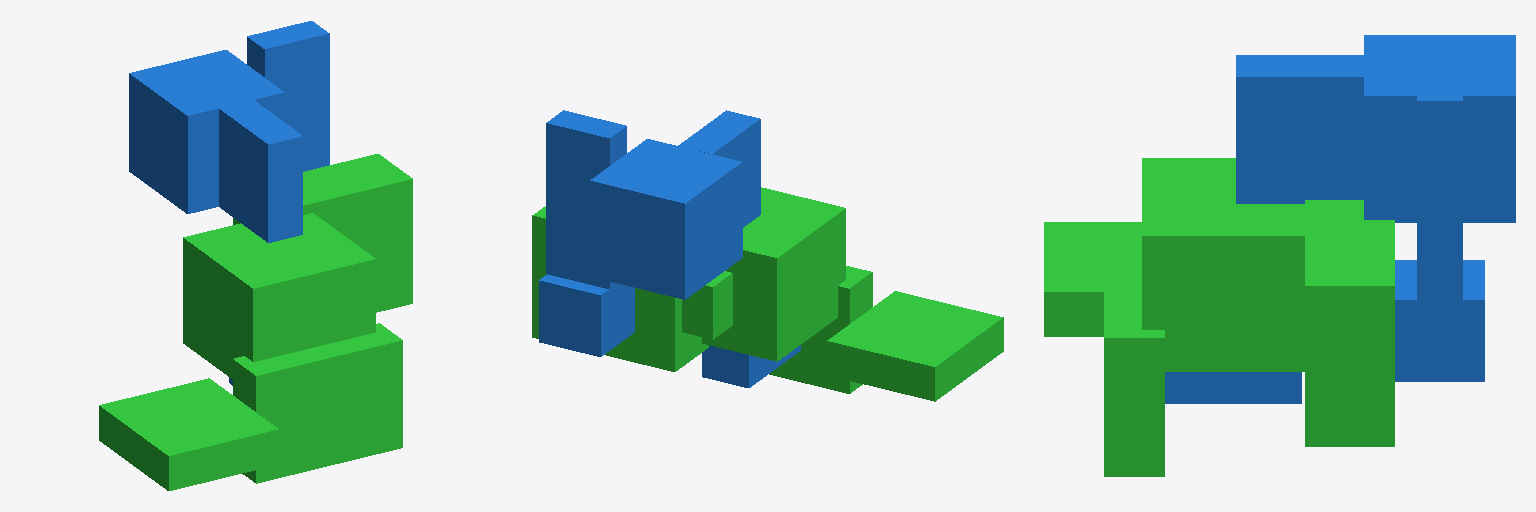
URDF robot description (robot):
<robot name = "robot">
    <link name="Link0">
        <inertial>
            <origin xyz="0 0 2" rpy="0 0 0"/>
            <mass value="0.2658421818418093" />
            <inertia ixx="100" ixy="0" ixz="0" iyy="100" iyz="0" izz="100" />
        </inertial>
        <visual>
            <origin xyz="0 0 2" rpy="0 0 0"/>
            <geometry>
                <box size="0.928755487511491 1.0142020789997055 0.2822266387224318" />
            </geometry>
            <material name="Sensor">
                <color rgba="0.239 0.875 0.282 1.0"/>
            </material>
        </visual>
        <collision>
            <origin xyz="0 0 2" rpy="0 0 0"/>
            <geometry>
                <box size="0.928755487511491 1.0142020789997055 0.2822266387224318" />
            </geometry>
        </collision>
    </link>
    <joint name="Link0_Link1" type="revolute">
       <parent link="Link0"/>
       <child  link="Link1"/>
       <origin rpy="0 0 0" xyz="0.4643777437557455 0 2" />
       <axis xyz="1 0 0"/>
       <limit effort="0.0" lower="-3.14159" upper="3.14159" velocity="0.0"/>
    </joint>
    <link name="Link1">
        <inertial>
            <origin xyz="0.6161356141751639 0 0" rpy="0 0 0"/>
            <mass value="0.36343176822890644" />
            <inertia ixx="100" ixy="0" ixz="0" iyy="100" iyz="0" izz="100" />
        </inertial>
        <visual>
            <origin xyz="0.6161356141751639 0 0" rpy="0 0 0"/>
            <geometry>
                <box size="1.2322712283503279 0.34132273980371786 0.8640748319390118" />
            </geometry>
            <material name="Sensor">
                <color rgba="0.239 0.875 0.282 1.0"/>
            </material>
        </visual>
        <collision>
            <origin xyz="0.6161356141751639 0 0" rpy="0 0 0"/>
            <geometry>
                <box size="1.2322712283503279 0.34132273980371786 0.8640748319390118" />
            </geometry>
        </collision>
    </link>
    <joint name="Link1_Link2" type="revolute">
       <parent link="Link1"/>
       <child  link="Link2"/>
       <origin rpy="0 0 0" xyz="0.6161356141751639 0.17066136990185893 0.0" />
       <axis xyz="1 0 0"/>
       <limit effort="0.0" lower="-3.14159" upper="3.14159" velocity="0.0"/>
    </joint>
    <link name="Link2">
        <inertial>
            <origin xyz="0.0 0.3853982483525411 0.0" rpy="0 0 0"/>
            <mass value="0.10568787073060398" />
            <inertia ixx="100" ixy="0" ixz="0" iyy="100" iyz="0" izz="100" />
        </inertial>
        <visual>
            <origin xyz="0.0 0.3853982483525411 0.0" rpy="0 0 0"/>
            <geometry>
                <box size="0.3993508108256505 0.7707964967050822 0.3433450936003075" />
            </geometry>
            <material name="No Sensor">
                <color rgba="0.184 0.553 0.933 1.0"/>
            </material>
        </visual>
        <collision>
            <origin xyz="0.0 0.3853982483525411 0.0" rpy="0 0 0"/>
            <geometry>
                <box size="0.3993508108256505 0.7707964967050822 0.3433450936003075" />
            </geometry>
        </collision>
    </link>
    <joint name="Link2_Link3" type="revolute">
       <parent link="Link2"/>
       <child  link="Link3"/>
       <origin rpy="0 0 0" xyz="0.0 0.3853982483525411 0.17167254680015376" />
       <axis xyz="0 1 0"/>
       <limit effort="0.0" lower="-3.14159" upper="3.14159" velocity="0.0"/>
    </joint>
    <link name="Link3">
        <inertial>
            <origin xyz="0.0 0.0 0.4240743824645465" rpy="0 0 0"/>
            <mass value="0.8946671082338712" />
            <inertia ixx="100" ixy="0" ixz="0" iyy="100" iyz="0" izz="100" />
        </inertial>
        <visual>
            <origin xyz="0.0 0.0 0.4240743824645465" rpy="0 0 0"/>
            <geometry>
                <box size="1.0312004399897563 1.0229310172845505 0.848148764929093" />
            </geometry>
            <material name="Sensor">
                <color rgba="0.239 0.875 0.282 1.0"/>
            </material>
        </visual>
        <collision>
            <origin xyz="0.0 0.0 0.4240743824645465" rpy="0 0 0"/>
            <geometry>
                <box size="1.0312004399897563 1.0229310172845505 0.848148764929093" />
            </geometry>
        </collision>
    </link>
    <joint name="Link3_Link4" type="revolute">
       <parent link="Link3"/>
       <child  link="Link4"/>
       <origin rpy="0 0 0" xyz="0.0 0.5114655086422752 0.4240743824645465" />
       <axis xyz="1 0 0"/>
       <limit effort="0.0" lower="-3.14159" upper="3.14159" velocity="0.0"/>
    </joint>
    <link name="Link4">
        <inertial>
            <origin xyz="0.0 0.14601211027232058 0.0" rpy="0 0 0"/>
            <mass value="0.03329380063271991" />
            <inertia ixx="100" ixy="0" ixz="0" iyy="100" iyz="0" izz="100" />
        </inertial>
        <visual>
            <origin xyz="0.0 0.14601211027232058 0.0" rpy="0 0 0"/>
            <geometry>
                <box size="0.264543319575563 0.29202422054464117 0.43097065741091767" />
            </geometry>
            <material name="Sensor">
                <color rgba="0.239 0.875 0.282 1.0"/>
            </material>
        </visual>
        <collision>
            <origin xyz="0.0 0.14601211027232058 0.0" rpy="0 0 0"/>
            <geometry>
                <box size="0.264543319575563 0.29202422054464117 0.43097065741091767" />
            </geometry>
        </collision>
    </link>
    <joint name="Link4_Link5" type="revolute">
       <parent link="Link4"/>
       <child  link="Link5"/>
       <origin rpy="0 0 0" xyz="0.1322716597877815 0.14601211027232058 0.0" />
       <axis xyz="0 1 0"/>
       <limit effort="0.0" lower="-3.14159" upper="3.14159" velocity="0.0"/>
    </joint>
    <link name="Link5">
        <inertial>
            <origin xyz="0.6110153354910366 0.0 0.0" rpy="0 0 0"/>
            <mass value="0.6172589867170022" />
            <inertia ixx="100" ixy="0" ixz="0" iyy="100" iyz="0" izz="100" />
        </inertial>
        <visual>
            <origin xyz="0.6110153354910366 0.0 0.0" rpy="0 0 0"/>
            <geometry>
                <box size="1.2220306709820732 0.5046001889305973 1.0010088258632286" />
            </geometry>
            <material name="Sensor">
                <color rgba="0.239 0.875 0.282 1.0"/>
            </material>
        </visual>
        <collision>
            <origin xyz="0.6110153354910366 0.0 0.0" rpy="0 0 0"/>
            <geometry>
                <box size="1.2220306709820732 0.5046001889305973 1.0010088258632286" />
            </geometry>
        </collision>
    </link>
    <joint name="Link5_Link6" type="revolute">
       <parent link="Link5"/>
       <child  link="Link6"/>
       <origin rpy="0 0 0" xyz="0.6110153354910366 0.25230009446529866 0.0" />
       <axis xyz="0 0 1"/>
       <limit effort="0.0" lower="-3.14159" upper="3.14159" velocity="0.0"/>
    </joint>
    <link name="Link6">
        <inertial>
            <origin xyz="0.0 0.25275930876818176 0.0" rpy="0 0 0"/>
            <mass value="0.13638644506697986" />
            <inertia ixx="100" ixy="0" ixz="0" iyy="100" iyz="0" izz="100" />
        </inertial>
        <visual>
            <origin xyz="0.0 0.25275930876818176 0.0" rpy="0 0 0"/>
            <geometry>
                <box size="0.5312352095658633 0.5055186175363635 0.5078637359786262" />
            </geometry>
            <material name="No Sensor">
                <color rgba="0.184 0.553 0.933 1.0"/>
            </material>
        </visual>
        <collision>
            <origin xyz="0.0 0.25275930876818176 0.0" rpy="0 0 0"/>
            <geometry>
                <box size="0.5312352095658633 0.5055186175363635 0.5078637359786262" />
            </geometry>
        </collision>
    </link>
    <joint name="Link6_Link7" type="revolute">
       <parent link="Link6"/>
       <child  link="Link7"/>
       <origin rpy="0 0 0" xyz="0.0 0.25275930876818176 0.2539318679893131" />
       <axis xyz="1 0 0"/>
       <limit effort="0.0" lower="-3.14159" upper="3.14159" velocity="0.0"/>
    </joint>
    <link name="Link7">
        <inertial>
            <origin xyz="0.0 0.0 0.6185880910339625" rpy="0 0 0"/>
            <mass value="0.1752539510904599" />
            <inertia ixx="100" ixy="0" ixz="0" iyy="100" iyz="0" izz="100" />
        </inertial>
        <visual>
            <origin xyz="0.0 0.0 0.6185880910339625" rpy="0 0 0"/>
            <geometry>
                <box size="0.5470529955101251 0.2589446049371372 1.237176182067925" />
            </geometry>
            <material name="No Sensor">
                <color rgba="0.184 0.553 0.933 1.0"/>
            </material>
        </visual>
        <collision>
            <origin xyz="0.0 0.0 0.6185880910339625" rpy="0 0 0"/>
            <geometry>
                <box size="0.5470529955101251 0.2589446049371372 1.237176182067925" />
            </geometry>
        </collision>
    </link>
    <joint name="Link7_Link8" type="revolute">
       <parent link="Link7"/>
       <child  link="Link8"/>
       <origin rpy="0 0 0" xyz="-0.27352649775506255 0.0 0.6185880910339625" />
       <axis xyz="1 0 0"/>
       <limit effort="0.0" lower="-3.14159" upper="3.14159" velocity="0.0"/>
    </joint>
    <link name="Link8">
        <inertial>
            <origin xyz="-0.40823031791115655 0.0 0.0" rpy="0 0 0"/>
            <mass value="0.5482315660204249" />
            <inertia ixx="100" ixy="0" ixz="0" iyy="100" iyz="0" izz="100" />
        </inertial>
        <visual>
            <origin xyz="-0.40823031791115655 0.0 0.0" rpy="0 0 0"/>
            <geometry>
                <box size="0.8164606358223131 0.8518424112867922 0.7882600708594458" />
            </geometry>
            <material name="No Sensor">
                <color rgba="0.184 0.553 0.933 1.0"/>
            </material>
        </visual>
        <collision>
            <origin xyz="-0.40823031791115655 0.0 0.0" rpy="0 0 0"/>
            <geometry>
                <box size="0.8164606358223131 0.8518424112867922 0.7882600708594458" />
            </geometry>
        </collision>
    </link>
    <joint name="Link8_Link9" type="revolute">
       <parent link="Link8"/>
       <child  link="Link9"/>
       <origin rpy="0 0 0" xyz="-0.40823031791115655 -0.4259212056433961 0.0" />
       <axis xyz="0 1 0"/>
       <limit effort="0.0" lower="-3.14159" upper="3.14159" velocity="0.0"/>
    </joint>
    <link name="Link9">
        <inertial>
            <origin xyz="0.0 -0.36076024444937865 0.0" rpy="0 0 0"/>
            <mass value="0.16741916602319903" />
            <inertia ixx="100" ixy="0" ixz="0" iyy="100" iyz="0" izz="100" />
        </inertial>
        <visual>
            <origin xyz="0.0 -0.36076024444937865 0.0" rpy="0 0 0"/>
            <geometry>
                <box size="0.29383754803860984 0.7215204888987573 0.7896765012085889" />
            </geometry>
            <material name="No Sensor">
                <color rgba="0.184 0.553 0.933 1.0"/>
            </material>
        </visual>
        <collision>
            <origin xyz="0.0 -0.36076024444937865 0.0" rpy="0 0 0"/>
            <geometry>
                <box size="0.29383754803860984 0.7215204888987573 0.7896765012085889" />
            </geometry>
        </collision>
    </link>
</robot>

--- Facts derived from the render (not from the file) ---
The picture shows the robot from 3 angles, left to right: view 1: azimuth 30°, elevation 25°; view 2: azimuth 150°, elevation 25°; view 3: azimuth 270°, elevation 25°; orthographic projection.
Robot: robot — 10 links, 9 joints (9 revolute); root link Link0; default pose: every joint at zero.
Links seen in each view (by area): view 1: Link3, Link1, Link8, Link0, Link5, Link9, Link7; view 2: Link8, Link3, Link0, Link7, Link6, Link5, Link1, Link9, Link4, Link2; view 3: Link3, Link5, Link8, Link9, Link1, Link7, Link6, Link0, Link2.
Link boxes in pixels (bbox=[...]): Link3: bbox=[183, 213, 375, 379]; Link1: bbox=[233, 323, 402, 483]; Link8: bbox=[129, 50, 284, 213]; Link0: bbox=[99, 378, 278, 490]; Link5: bbox=[233, 154, 412, 312]; Link9: bbox=[219, 100, 302, 242]; Link7: bbox=[247, 21, 329, 171]; Link8: bbox=[590, 139, 742, 299]; Link3: bbox=[702, 187, 845, 361]; Link0: bbox=[827, 291, 1003, 401]; Link7: bbox=[546, 110, 626, 288]; Link6: bbox=[539, 274, 634, 356]; Link5: bbox=[532, 206, 708, 371]; Link1: bbox=[769, 266, 872, 393]; Link9: bbox=[678, 110, 760, 227]; Link4: bbox=[682, 271, 732, 339]; Link2: bbox=[702, 345, 800, 387]; Link3: bbox=[1142, 158, 1304, 371]; Link5: bbox=[1305, 200, 1394, 446]; Link8: bbox=[1364, 35, 1515, 222]; Link9: bbox=[1236, 55, 1363, 203]; Link1: bbox=[1104, 245, 1164, 476]; Link7: bbox=[1417, 60, 1462, 300]; Link6: bbox=[1395, 260, 1484, 381]; Link0: bbox=[1044, 222, 1141, 336]; Link2: bbox=[1165, 372, 1301, 403].
Bounding box of the posed robot: 2.9 × 2.65 × 2.52 m (x, y, z).
Geometry: primitives only (box / cylinder / sphere), no mesh files.